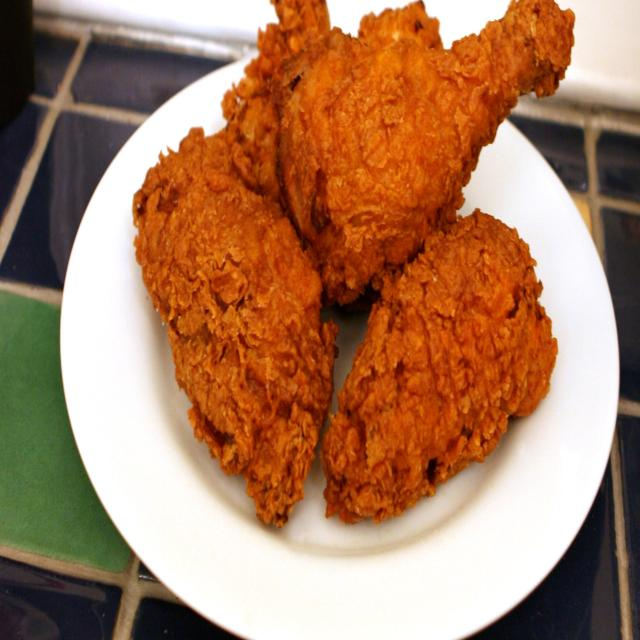Frango: (134, 0, 573, 534)
